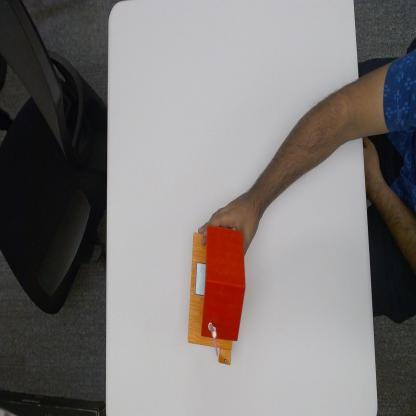Arm: (257, 78, 364, 213)
Hand: (198, 193, 262, 255)
House: (187, 225, 245, 367)
